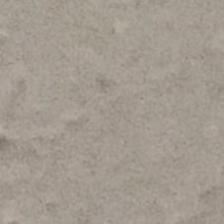Non_Crack: (22, 13, 224, 223)
